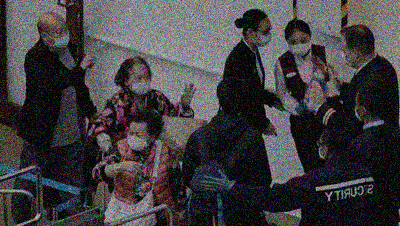with_mask: (126, 126, 150, 153), (287, 35, 311, 57), (131, 71, 152, 96), (253, 25, 273, 49), (50, 24, 70, 48), (339, 44, 354, 69), (353, 98, 364, 121), (316, 139, 325, 160)
